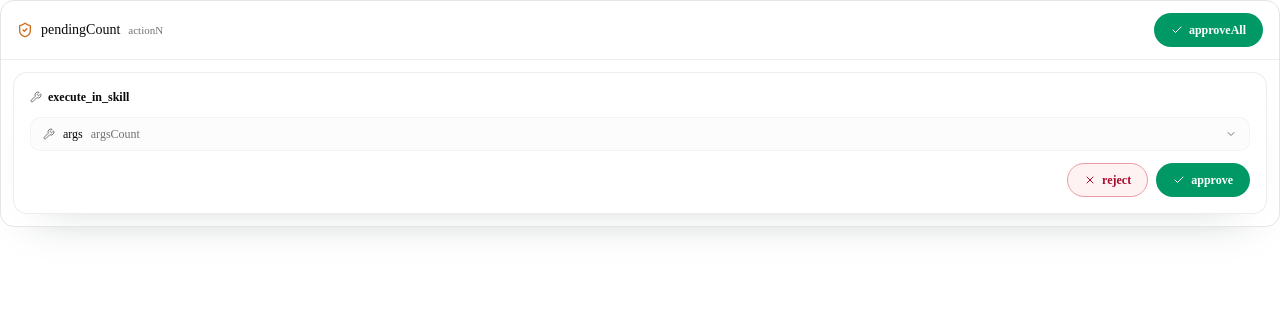
ApprovalCard › keeps reject and edit rows pending until their manual decisions resolve
The image size is (1280, 330).
Click the button "reject" at [1108, 180], box x1=1067 y1=163 x2=1148 y2=197
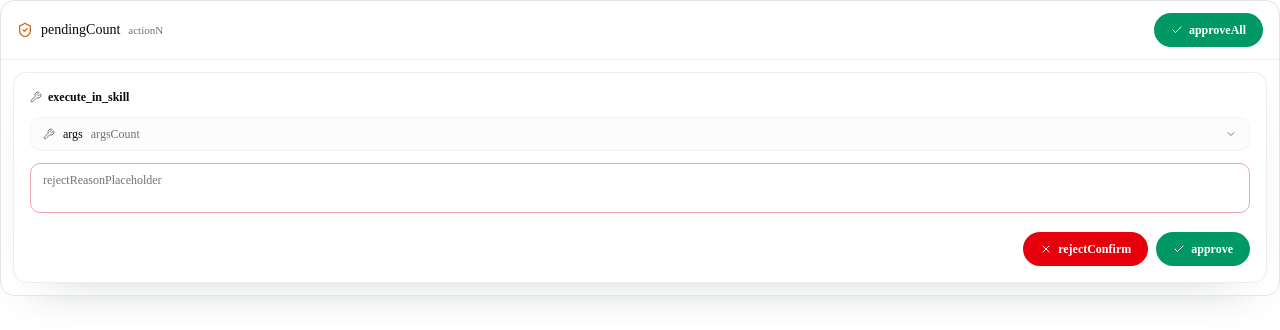
Click the button "rejectConfirm" at [1086, 249], box x1=1023 y1=232 x2=1148 y2=266
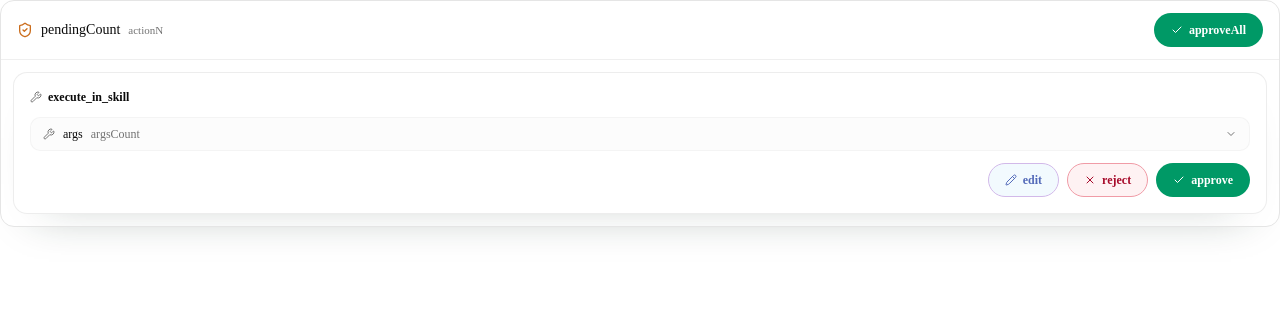
Expected: the element with test id "approval-group" has attribute data-hitl-pending-actions="2"
Click the button "edit" at [1023, 180], box x1=988 y1=163 x2=1059 y2=197
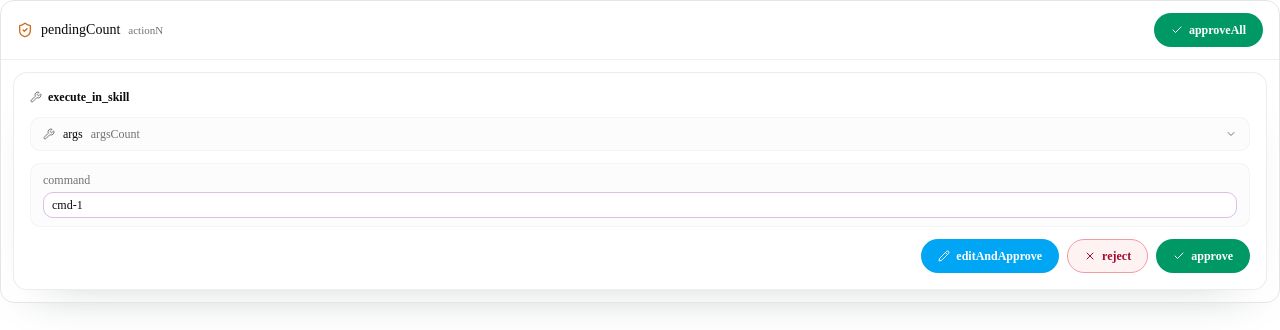
Click the button "editAndApprove" at [990, 256], box x1=921 y1=239 x2=1059 y2=273
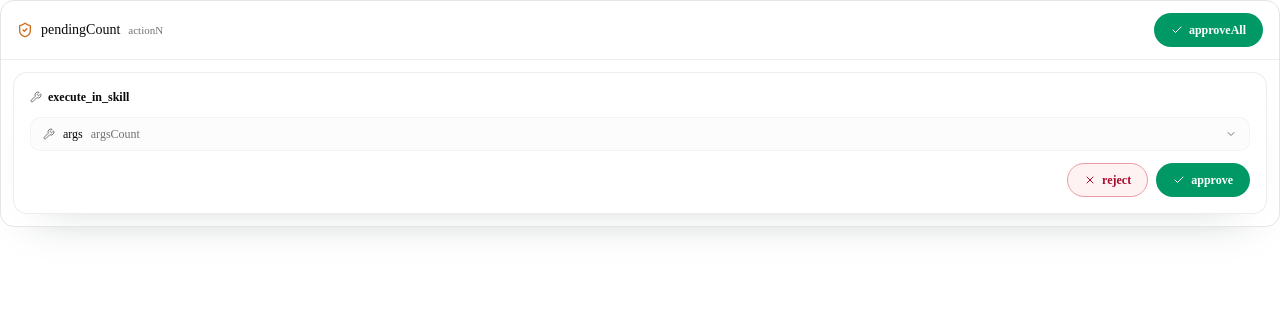
Expected: the element with test id "approval-group" has attribute data-hitl-pending-actions="1"
Click the button with test id "approval-approve-button" at [1203, 180], box x1=1156 y1=163 x2=1250 y2=197
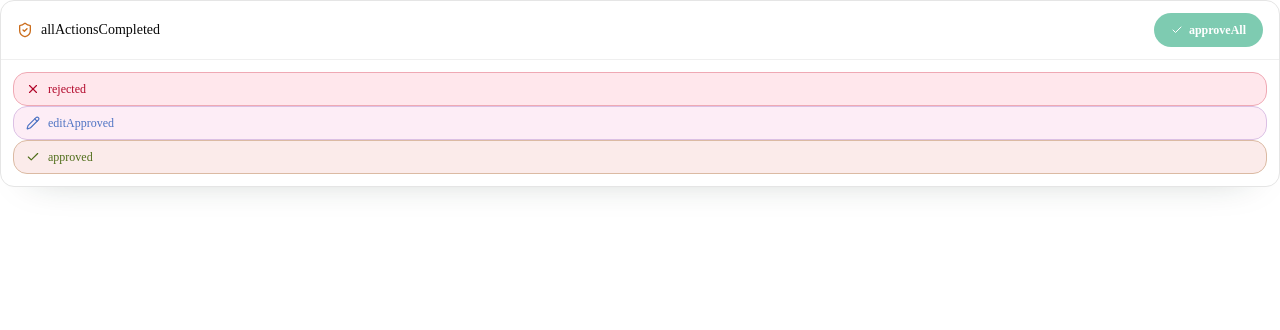
Expected: the text "allActionsCompleted" is shown, x1=41 y1=20 x2=160 y2=40
